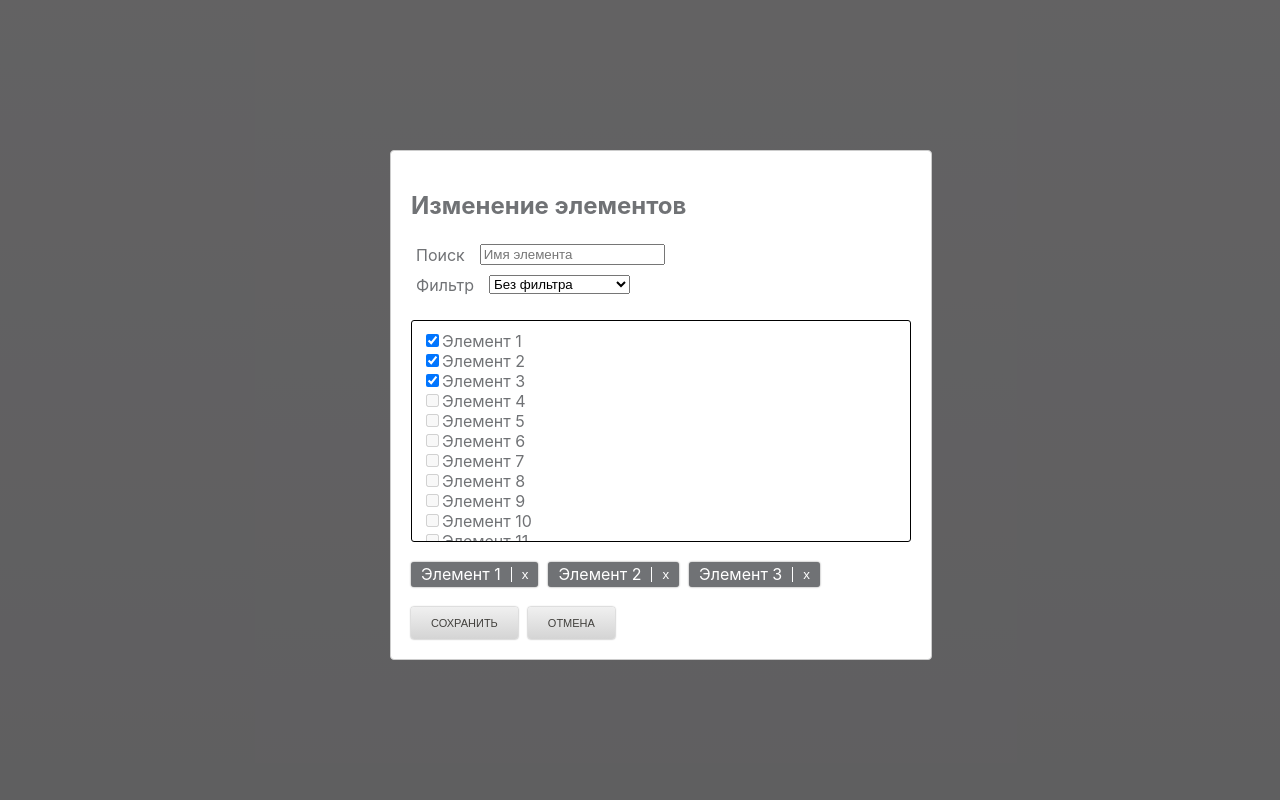
Test: ModalChangeItems component › render empty items list by search
Type "values without matches" into the field with placeholder "Имя элемента" at (572, 255), box [480,244,665,265]
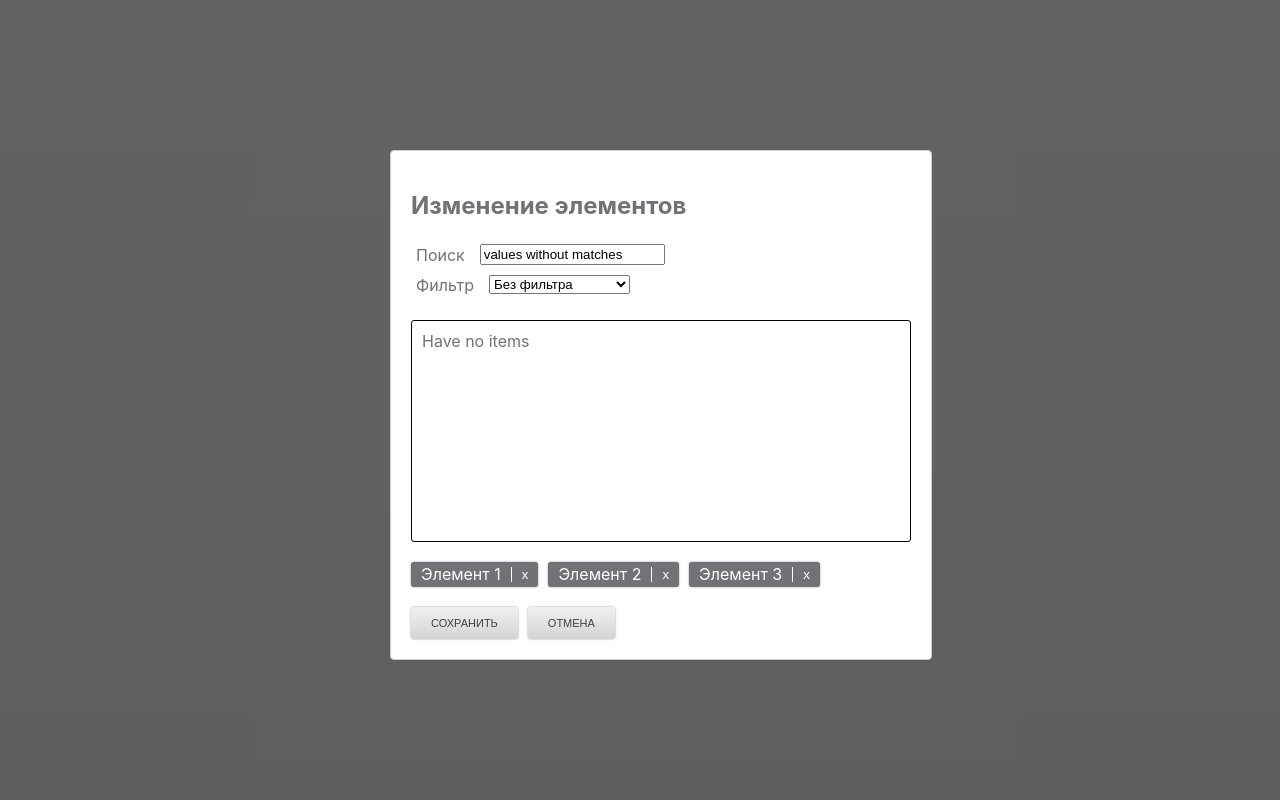
Expected: the text "Have no items" is shown, [411,320,911,542]
